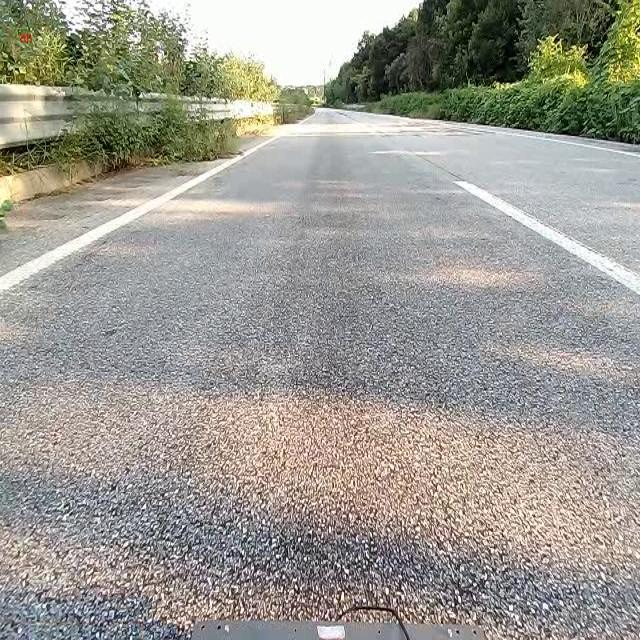Lane: (0, 135, 279, 299), (0, 138, 279, 295), (450, 174, 640, 301), (454, 180, 639, 295)
